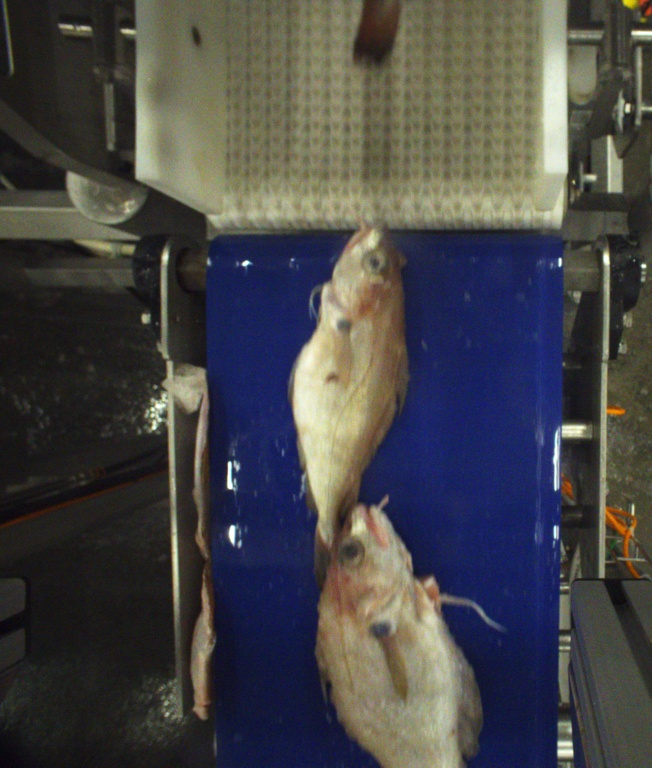BIB: (291, 219, 407, 590)
